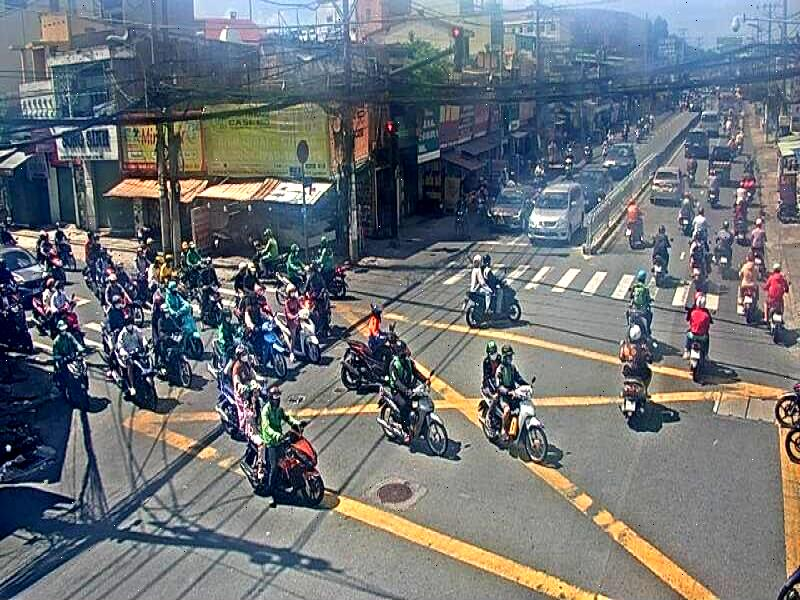car: (527, 183, 583, 246), (486, 184, 538, 231), (650, 168, 684, 202), (604, 143, 638, 176), (686, 127, 709, 155)
motorcycle: (374, 389, 459, 459), (242, 437, 324, 505), (511, 384, 549, 464), (112, 347, 158, 412), (151, 330, 193, 387), (60, 352, 89, 406)
